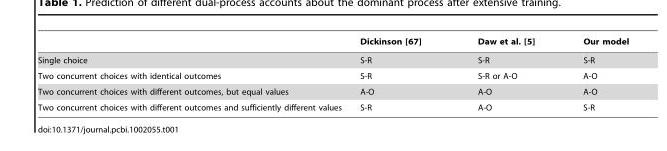table: (37, 36, 628, 111)
table column: (37, 36, 350, 111), (448, 36, 558, 111), (350, 36, 448, 111), (558, 36, 628, 111)
table column header: (37, 36, 628, 50)
table row: (37, 50, 628, 67), (37, 67, 628, 83), (37, 83, 628, 99), (37, 36, 628, 50), (37, 99, 628, 111)
